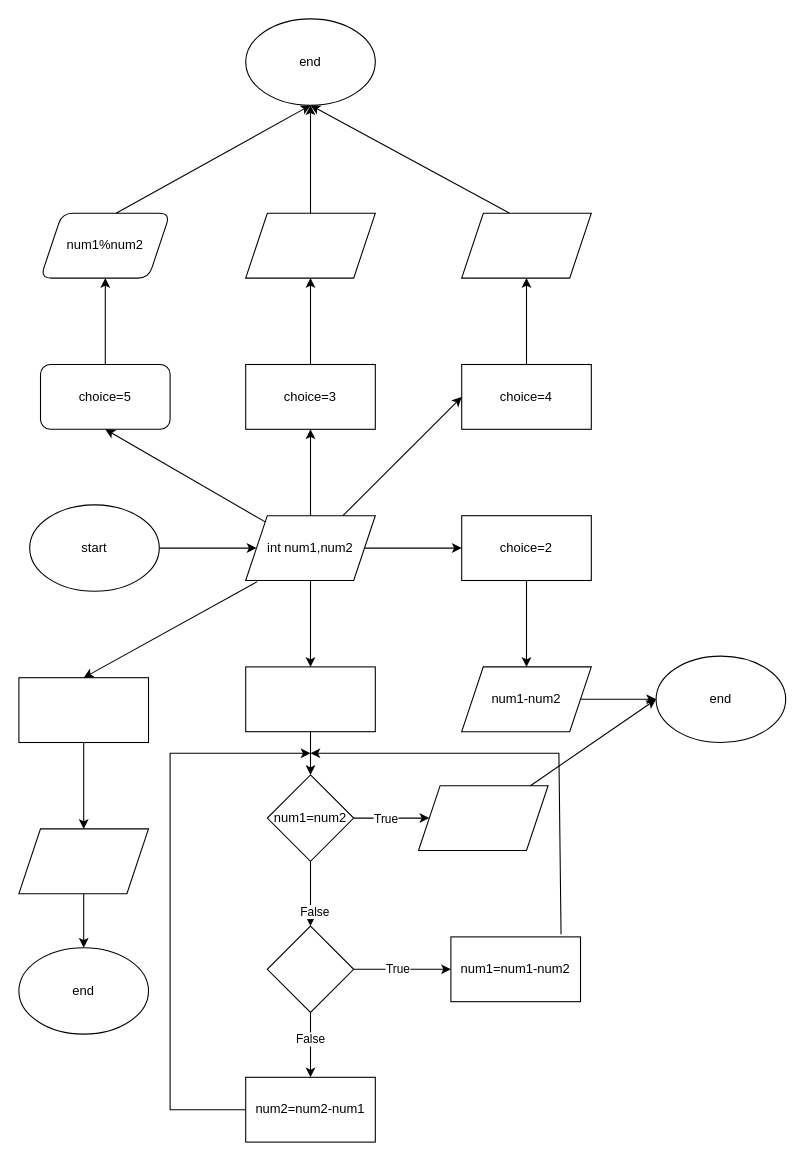
Image size: 805x1161. Some labels were removed from this diagram. Here are the shapes that lost their labels. From the top down, the centre of each, then its label:
the point at 310,245: num1*num2
the point at 526,245: (float)num1/num2
the point at 83,709: choice=1
the point at 310,699: choice=6
the point at 482,817: num1
the point at 83,861: num1+num2
the point at 310,969: num1>num2
